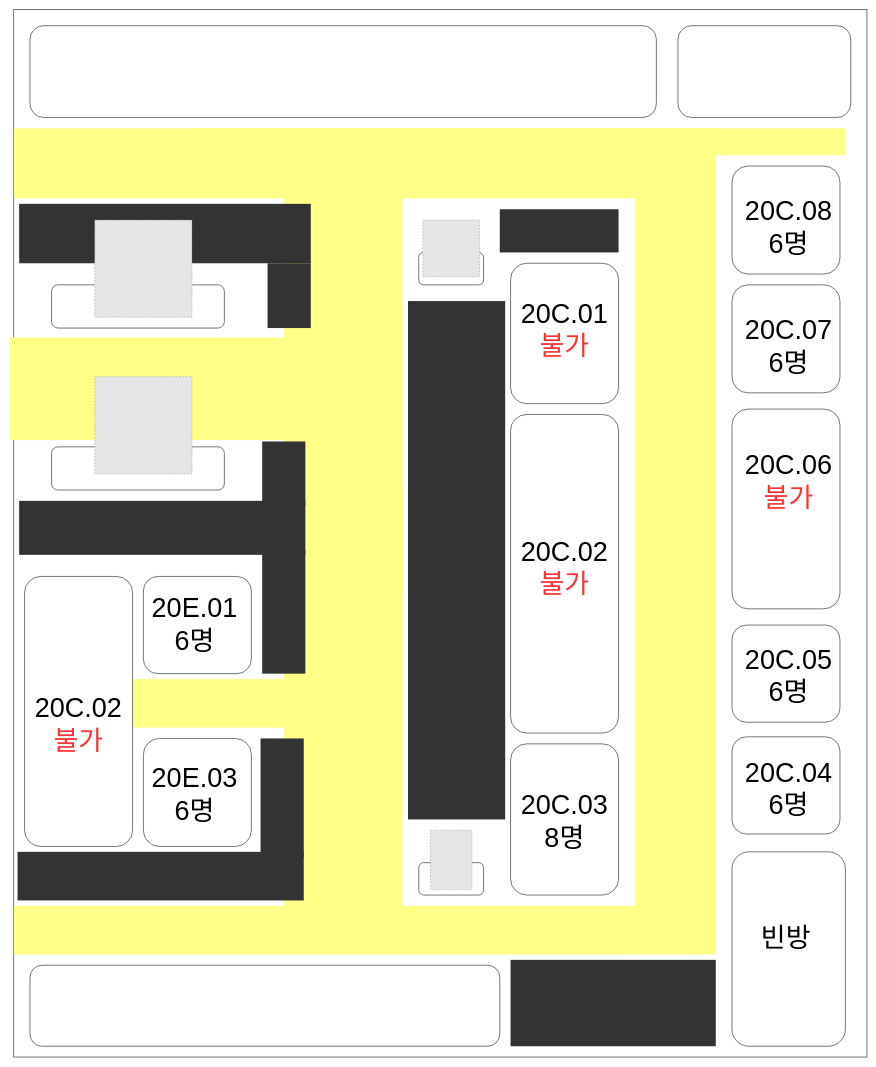
Some shapes in this 876 by 1067 pixel diagram are drawn without their labels. Grey dashed boxes stand in for pictures. The shapes that lost their labels are listed below. From the top down, each one's centre as x and y in pixels, then its label:
At point 342,71: "NW 사무실".
At point 764,71: "빈 공간".
At point 264,1005: "SW 사무실".
